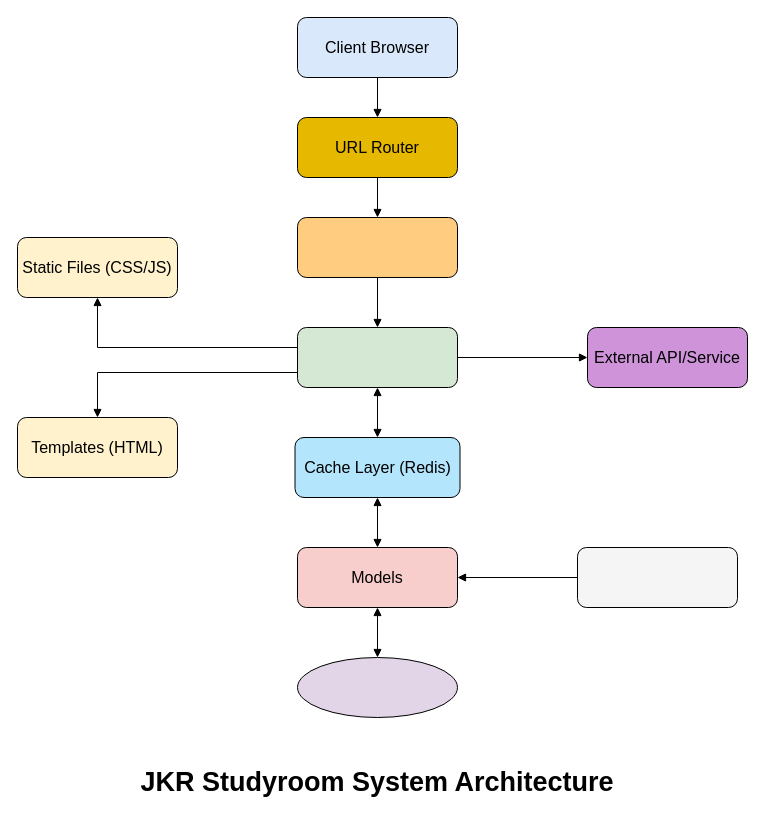
Some shapes in this 765 by 816 pixel diagram are drawn without their labels. The shapes that lost their labels are listed below. From the top down, each one's box as (x1, y1, x2, y2) in pixels, then its label:
(296, 216, 458, 278): Middleware (Auth, Logging)
(296, 326, 458, 388): Django Views
(576, 546, 738, 608): Admin Interface
(296, 656, 458, 718): SQLite3 Database
